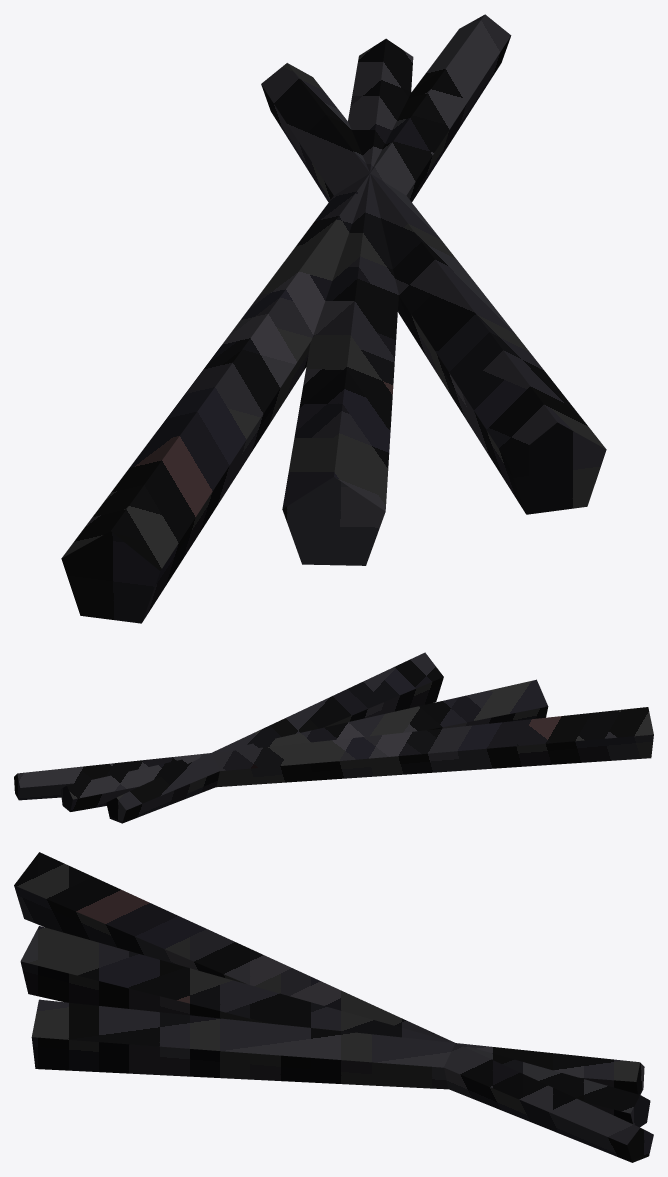
Rendered from enfeite_raiz_chao.glb.
3 views of the same model, one above another, from view 1: azimuth 30°, elevation 25°; view 2: azimuth 150°, elevation 25°; view 3: azimuth 270°, elevation 25° (orthographic). The views are drawn at different scales.
Visible parts, largest first — view 1: vulcao_enfeite_raiz_chao; view 2: vulcao_enfeite_raiz_chao; view 3: vulcao_enfeite_raiz_chao.
Part boxes in pixels (<box>): vulcao_enfeite_raiz_chao: <box>61,14,606,623</box>; vulcao_enfeite_raiz_chao: <box>14,652,653,823</box>; vulcao_enfeite_raiz_chao: <box>14,852,653,1162</box>.
Bounding box in the file's own units: 0.3489 × 0.0344 × 0.3301.
Materials: 1 (1 with a texture image).
